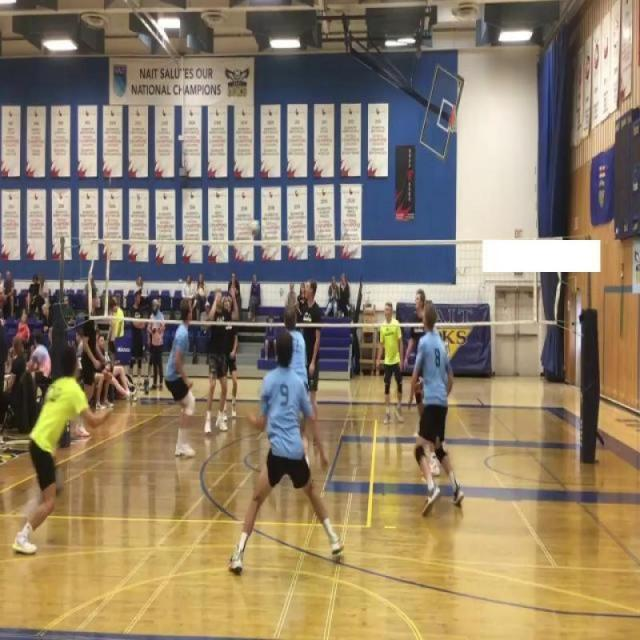volleyball: (250, 219, 261, 236)
